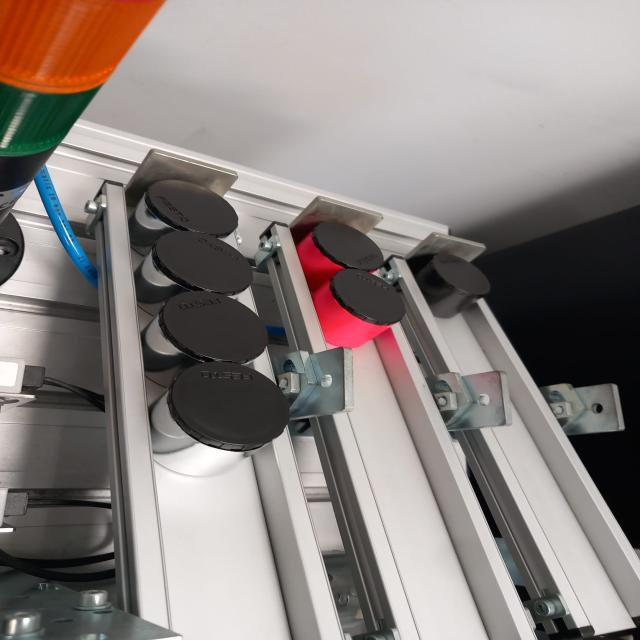Workpiece: (147, 362, 296, 490), (140, 287, 282, 363), (138, 220, 260, 291), (126, 172, 254, 234), (417, 240, 507, 319), (314, 278, 407, 346), (291, 214, 390, 275)
